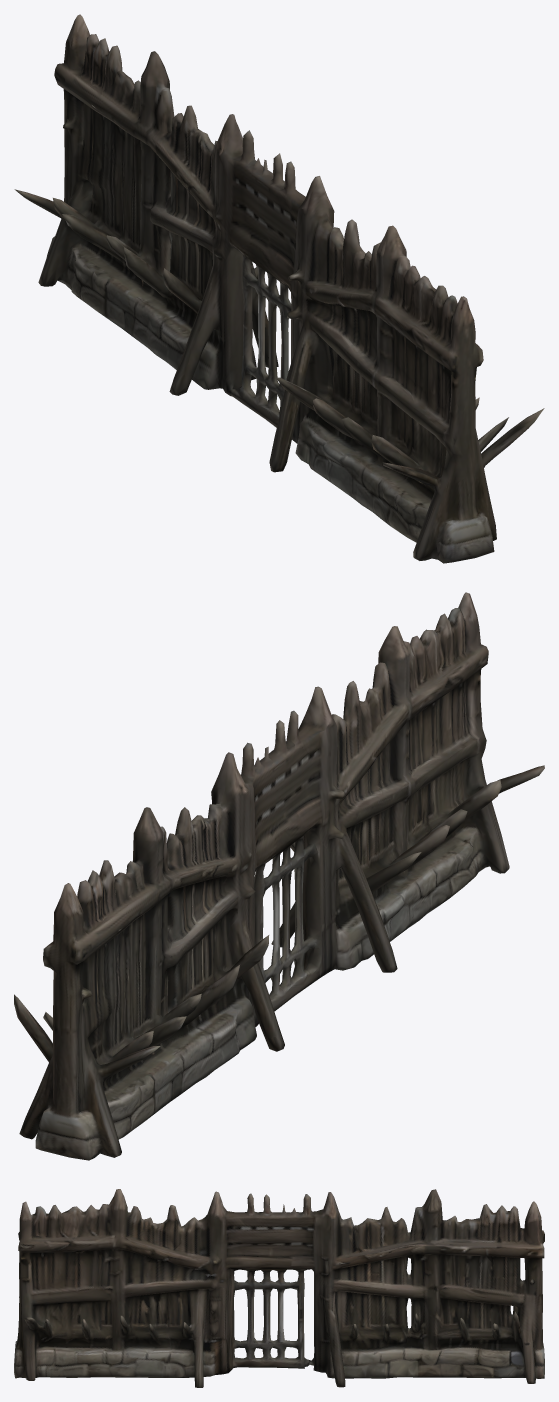
The model's file is wooden_palisade_gate.glb.
3 views of the same model, one above another, from view 1: azimuth 30°, elevation 25°; view 2: azimuth 150°, elevation 25°; view 3: azimuth 270°, elevation 25° (orthographic). The views are drawn at different scales.
Parts seen in each view (by area): view 1: WoodenPalisadeGate; view 2: WoodenPalisadeGate; view 3: WoodenPalisadeGate.
Boxes of the visible parts, bbox=[...] form: WoodenPalisadeGate: bbox=[14, 14, 544, 563]; WoodenPalisadeGate: bbox=[14, 592, 544, 1160]; WoodenPalisadeGate: bbox=[14, 1189, 544, 1387].
Bounding box in the file's own units: 0.818 × 1.33 × 3.5.
1 material, 1 textured.
